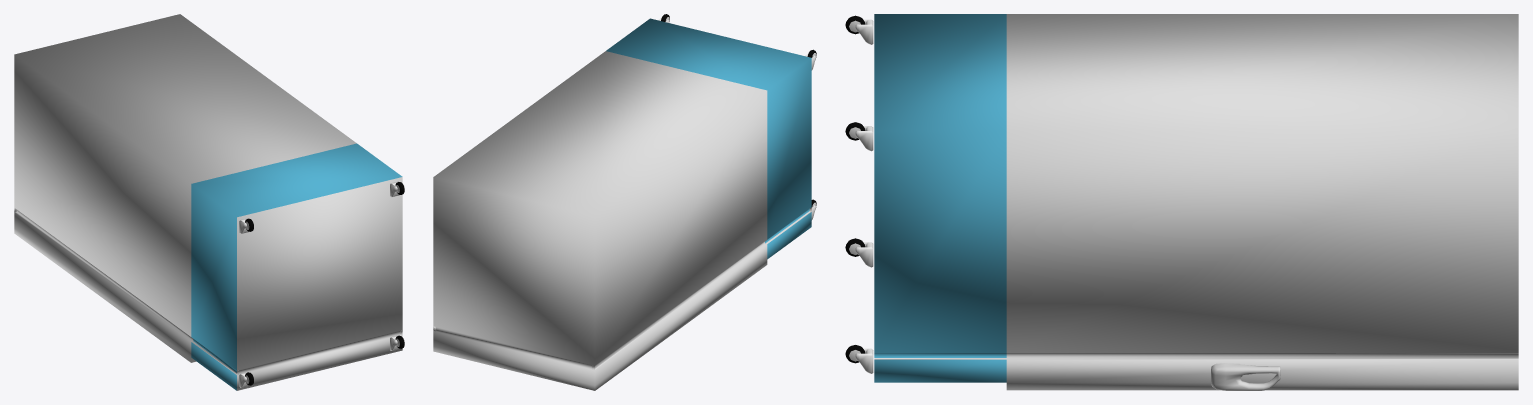
The picture shows the model from 3 angles, left to right: view 1: azimuth 30°, elevation 25°; view 2: azimuth 150°, elevation 25°; view 3: azimuth 270°, elevation 25°; orthographic projection. The views are drawn at different scales.
Visible parts, largest first — view 1: Cube; view 2: Cube; view 3: Cube.
Boxes of the visible parts, x1,y1,x2,y2 form: Cube: (14,14,404,390); Cube: (433,14,816,390); Cube: (845,14,1518,390).
Bounding box in the file's own units: 71.14 × 70.81 × 165.
